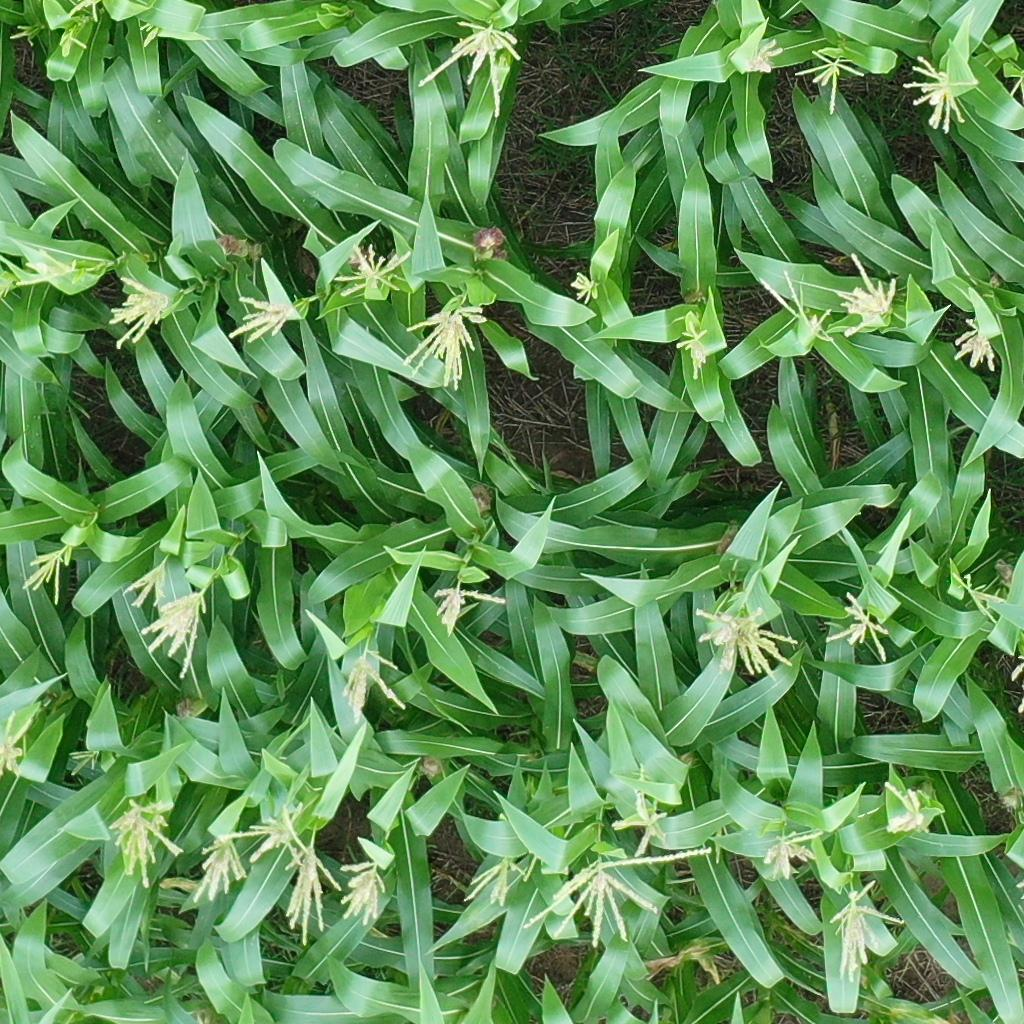Tassel: (526, 846, 714, 949), (416, 16, 524, 118), (687, 603, 801, 683), (823, 870, 904, 982), (404, 301, 488, 390), (745, 269, 833, 350), (136, 587, 213, 679), (109, 794, 183, 888), (285, 843, 345, 950), (829, 251, 902, 336), (338, 636, 407, 723), (611, 764, 668, 864), (904, 53, 974, 134), (825, 590, 895, 667), (106, 270, 175, 348), (330, 236, 413, 297), (792, 45, 863, 113), (426, 581, 506, 639), (223, 288, 303, 345), (760, 819, 828, 880), (9, 238, 82, 294), (22, 538, 74, 608), (245, 801, 301, 865), (463, 857, 529, 911), (192, 840, 245, 906), (340, 858, 389, 924), (881, 781, 930, 846), (52, 1, 104, 57), (121, 553, 172, 609), (950, 316, 999, 374), (955, 570, 1004, 625), (672, 317, 711, 381), (1, 709, 38, 775), (741, 34, 787, 74), (563, 274, 606, 306), (5, 22, 41, 46), (134, 17, 160, 50)
